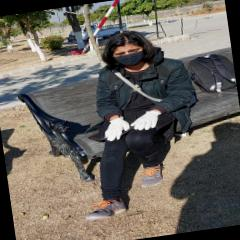gloved: (101, 114, 130, 142), (129, 110, 161, 132)
